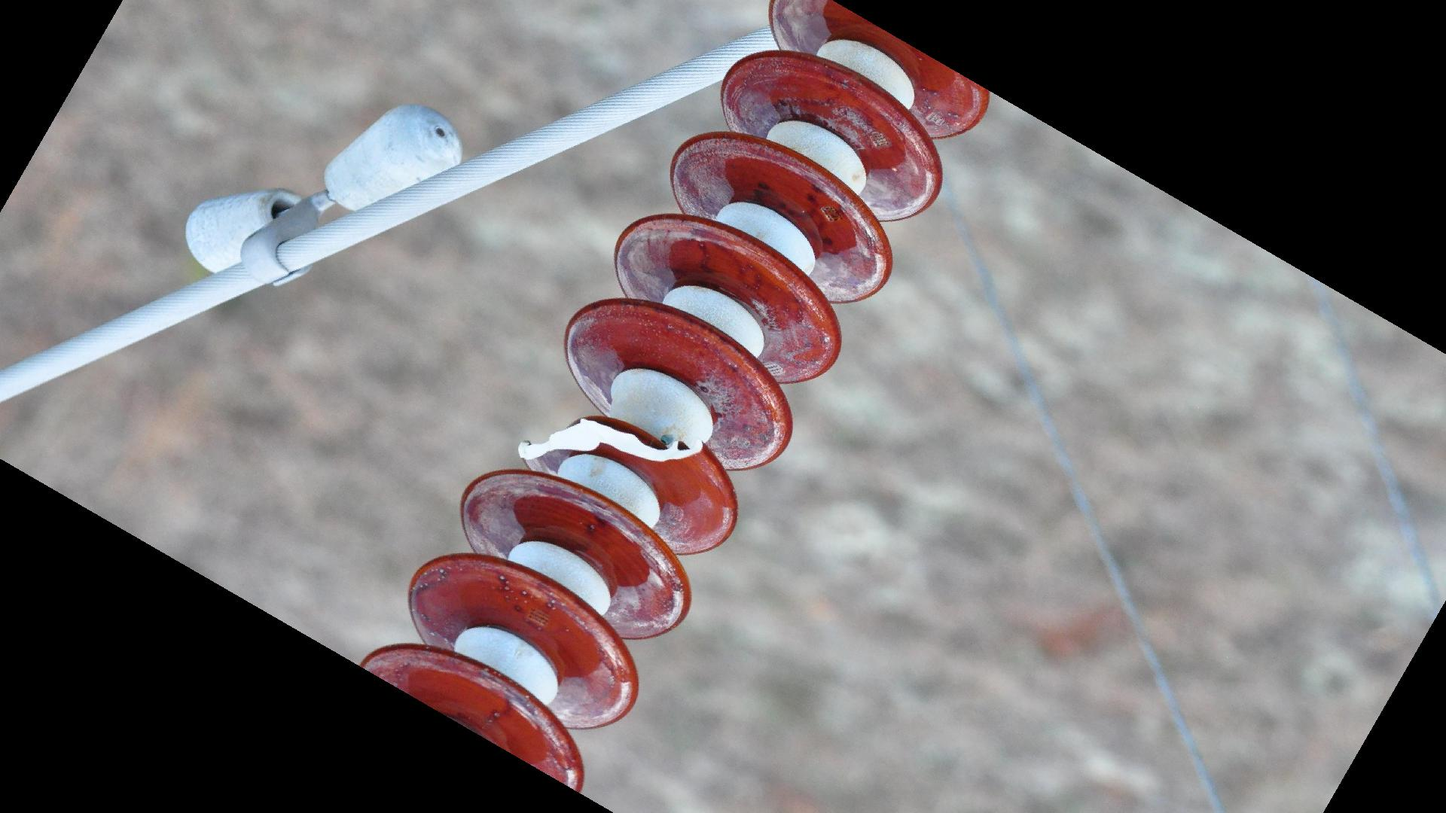insulator: (358, 1, 995, 811)
insulator_breakage: (508, 410, 713, 470)
